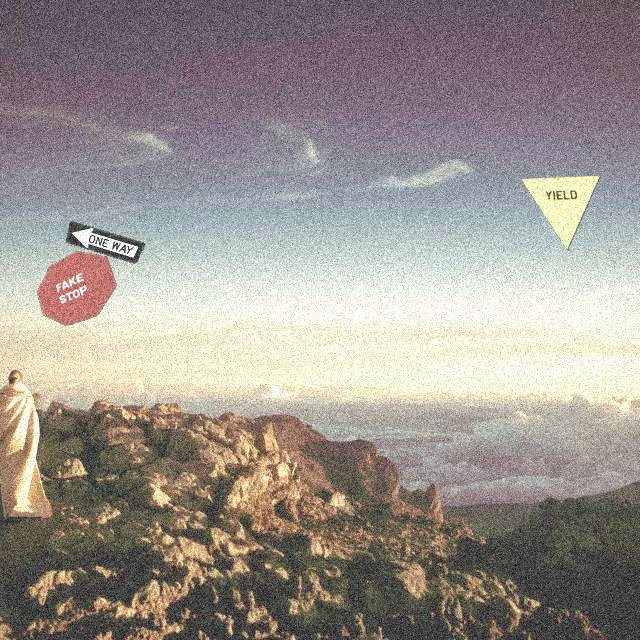FAKE_STOP: (36, 250, 117, 326)
ONE_WAY_ left: (65, 220, 146, 264)
YIELD: (520, 175, 601, 251)
